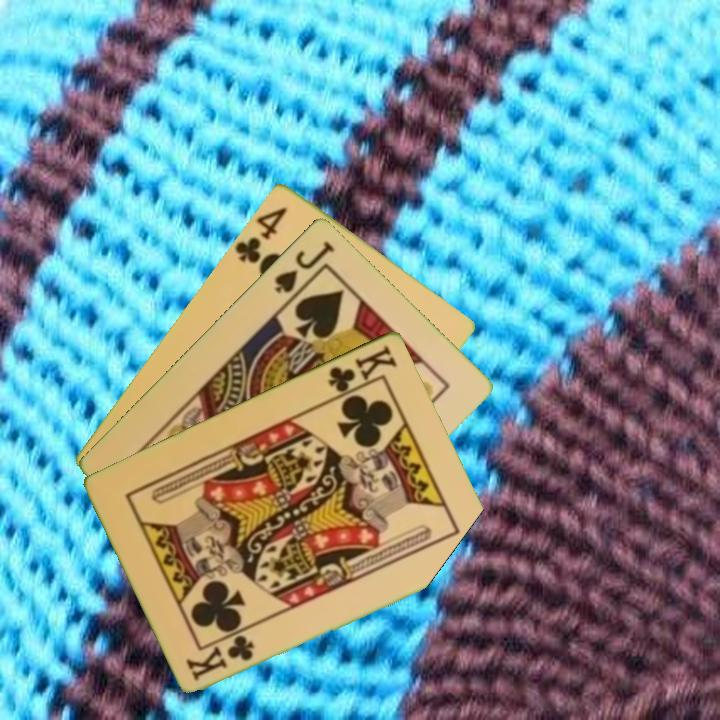4c: (232, 202, 290, 266)
Js: (271, 236, 337, 296)
Kc: (325, 341, 400, 401), (183, 632, 258, 684)
